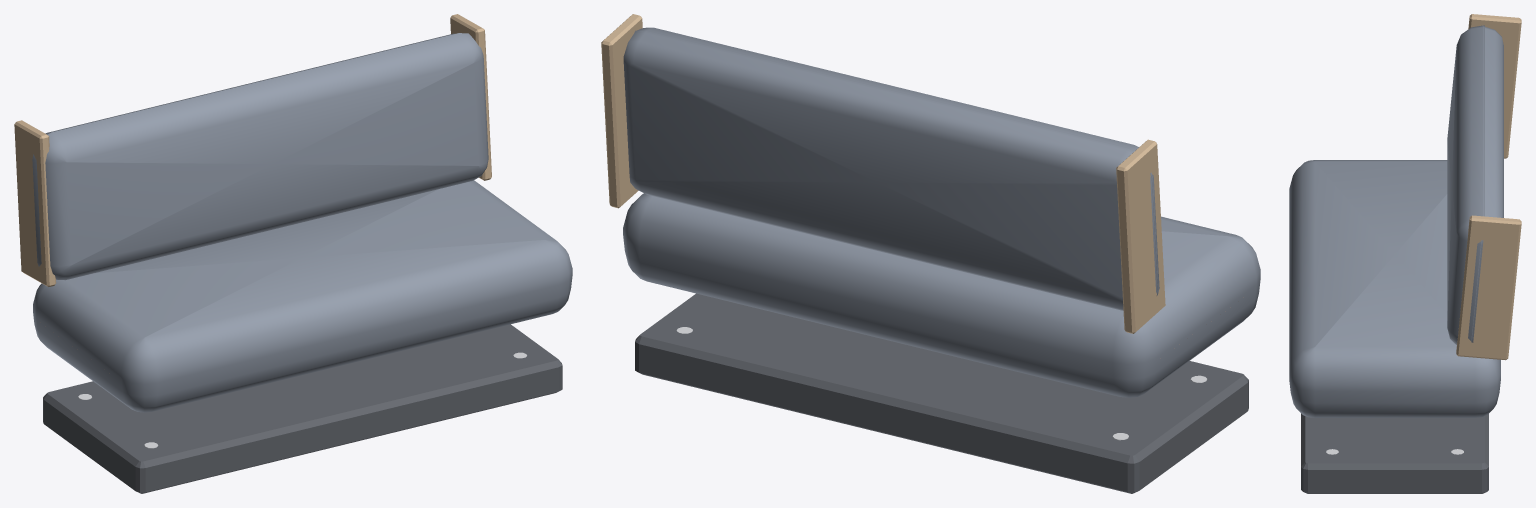
Rendered from downtown-office-interiors-soft-bench-modular-with-back-7c27ac56__16992.glb.
3 renders of one model, left to right at view 1: azimuth 30°, elevation 25°; view 2: azimuth 150°, elevation 25°; view 3: azimuth 270°, elevation 25°, orthographic. The views are drawn at different scales.
Visible parts, largest first — view 1: soft-bench-modular-with-back; view 2: soft-bench-modular-with-back; view 3: soft-bench-modular-with-back.
Boxes of the visible parts, x1,y1,x2,y2 form: soft-bench-modular-with-back: [14, 14, 572, 493]; soft-bench-modular-with-back: [601, 14, 1260, 493]; soft-bench-modular-with-back: [1289, 14, 1521, 493].
Bounding box in the file's own units: 1.41 × 0.8944 × 0.6676.
